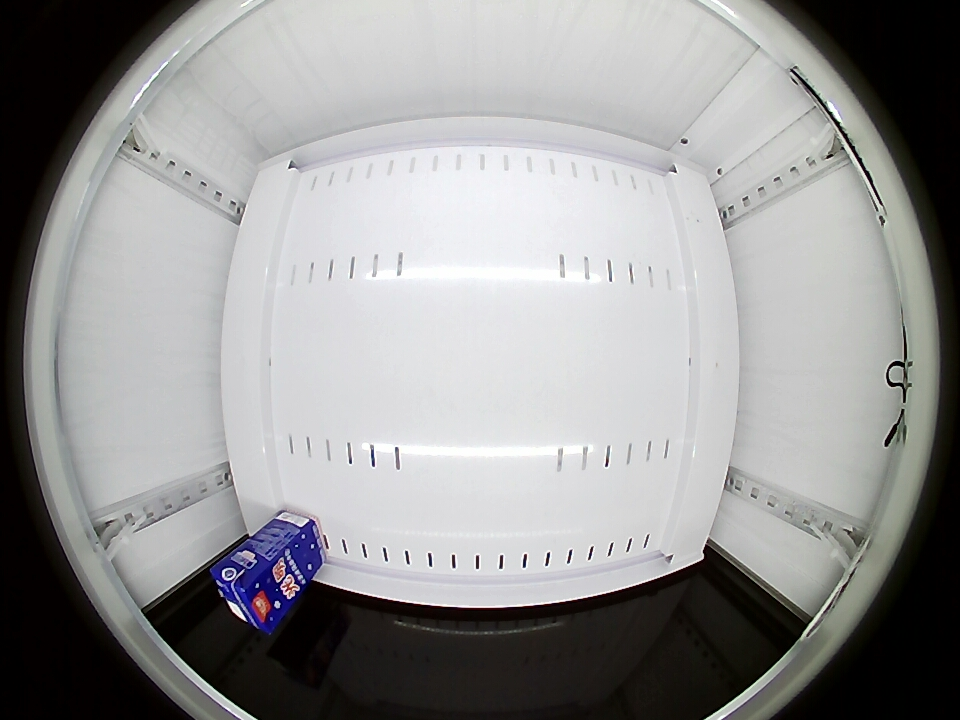bingqilinniunai: (211, 547, 288, 633)
